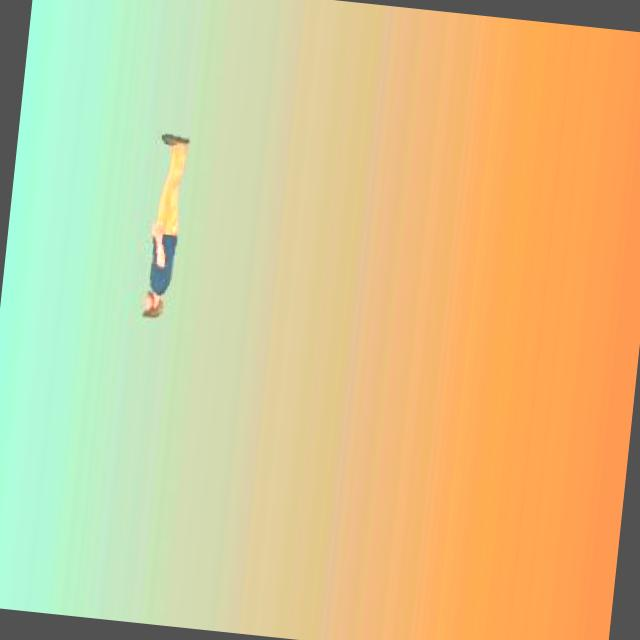Person: (134, 128, 196, 327)
